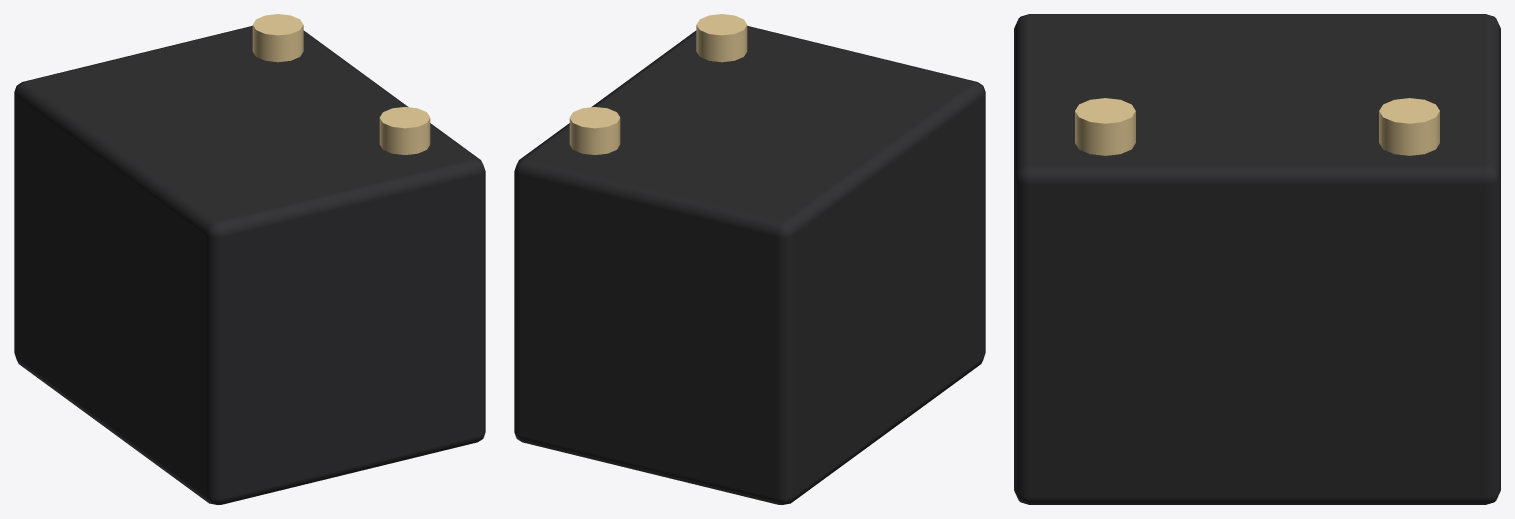
File: bike_boda_boda__battery.glb
3 views of the same model, side by side, from view 1: azimuth 30°, elevation 25°; view 2: azimuth 150°, elevation 25°; view 3: azimuth 270°, elevation 25° (orthographic). The views are drawn at different scales.
Parts seen in each view (by area): view 1: electrical__battery, electrical__battery__terminals; view 2: electrical__battery, electrical__battery__terminals; view 3: electrical__battery, electrical__battery__terminals.
Part boxes in pixels (box(x1,y1,x2,y2)): electrical__battery: box(14, 26, 485, 504); electrical__battery__terminals: box(252, 14, 430, 154); electrical__battery: box(514, 26, 985, 504); electrical__battery__terminals: box(569, 14, 747, 154); electrical__battery: box(1014, 14, 1500, 504); electrical__battery__terminals: box(1075, 98, 1439, 155).
Size of the model in its own units: 7.6 by 8.1 by 9.6.
